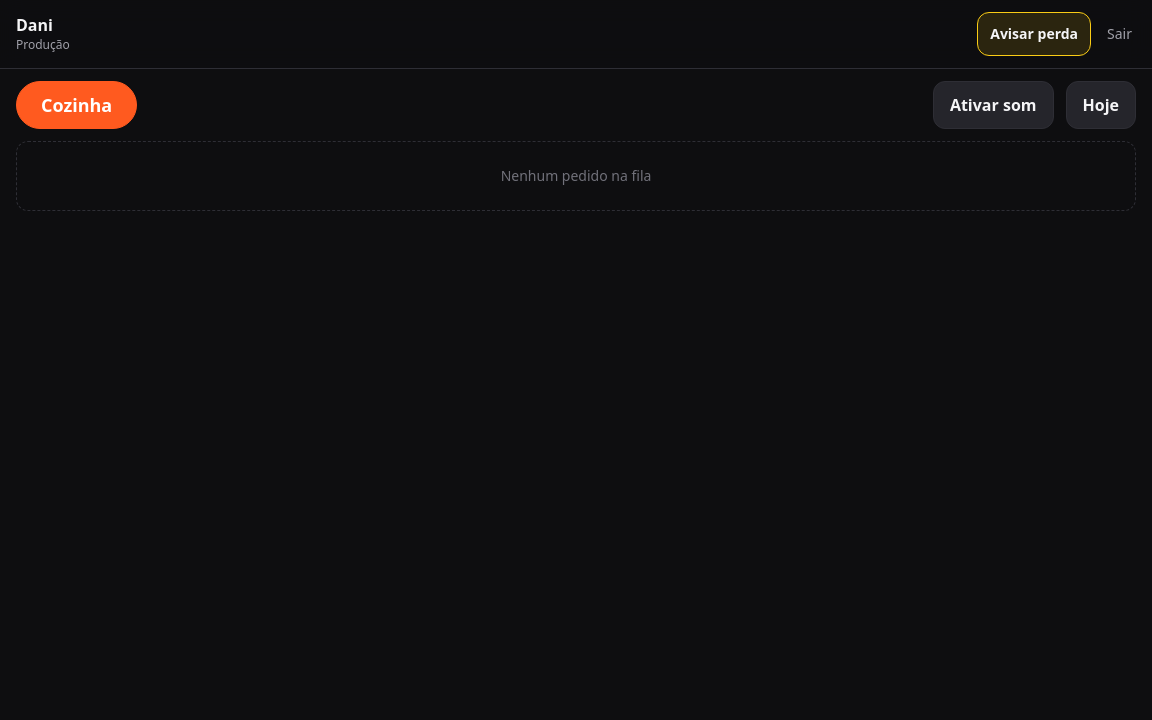
Test case: App da equipe › cozinha abre Hoje pela produção e volta pelo topo
The width and height of the screenshot is (1152, 720).
Later steps or results of the test are not shown.
Expected: the button "Voltar" is not shown
Click the button "Hoje": point(1101, 105) [1066,81,1136,129]
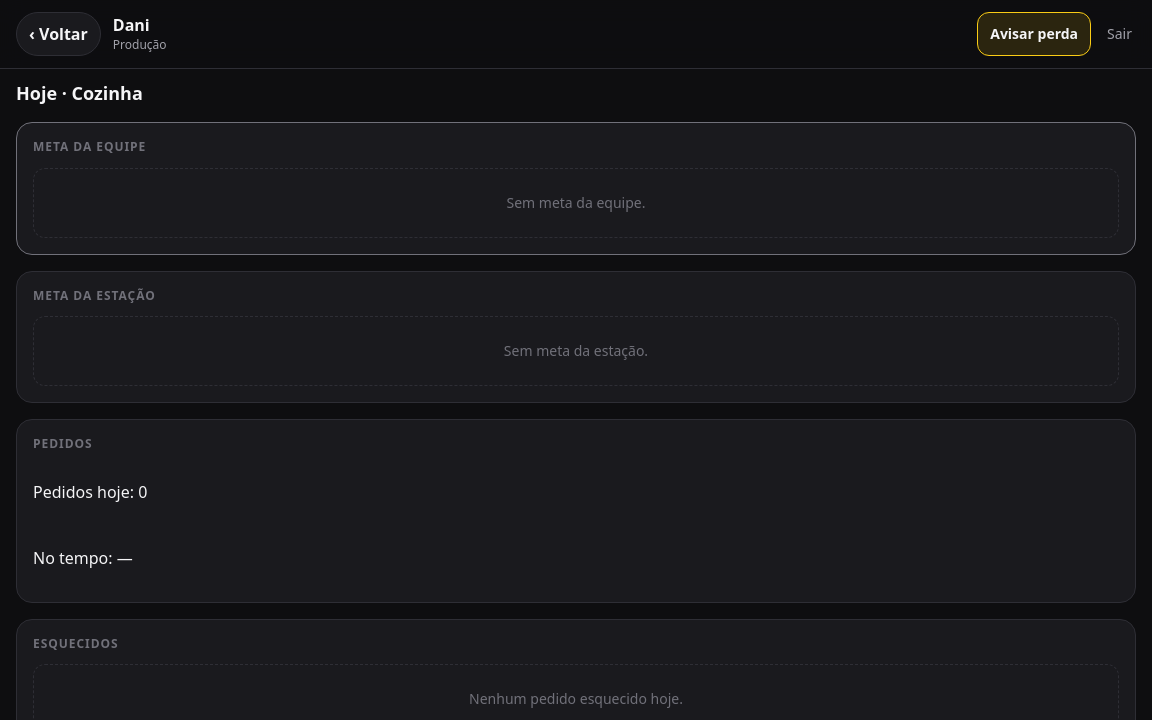
Result: the text "Pedidos hoje: 0" is shown at [33,481,147,503]
